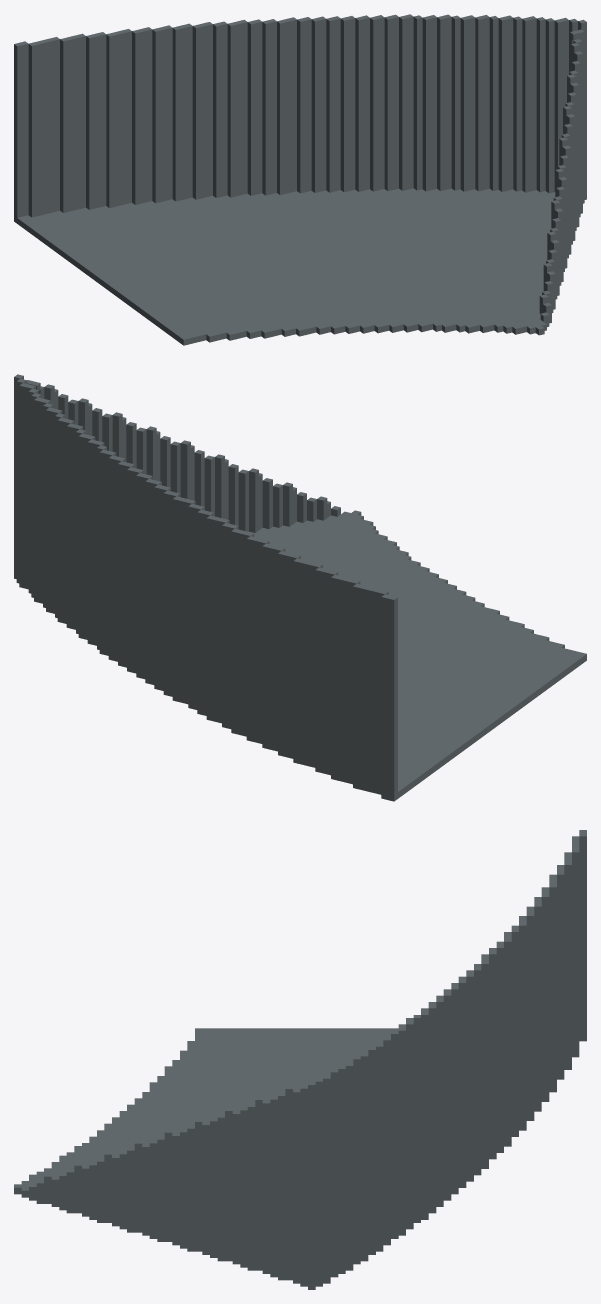
File: globus_right_overtile.obj
The picture shows the model from 3 angles, top to bottom: view 1: azimuth 30°, elevation 25°; view 2: azimuth 150°, elevation 25°; view 3: azimuth 270°, elevation 25°; orthographic projection. The views are drawn at different scales.
Bounding box in the file's own units: 8 × 3 × 7.6.
1 material, 1 textured.
